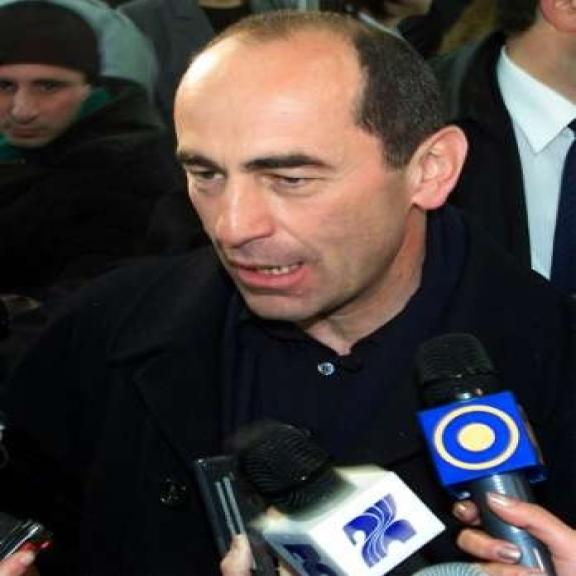face: (171, 89, 472, 319), (0, 66, 96, 162)
